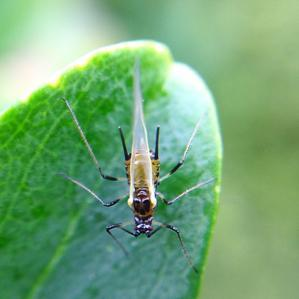Green peach aphid: (45, 47, 246, 271)
